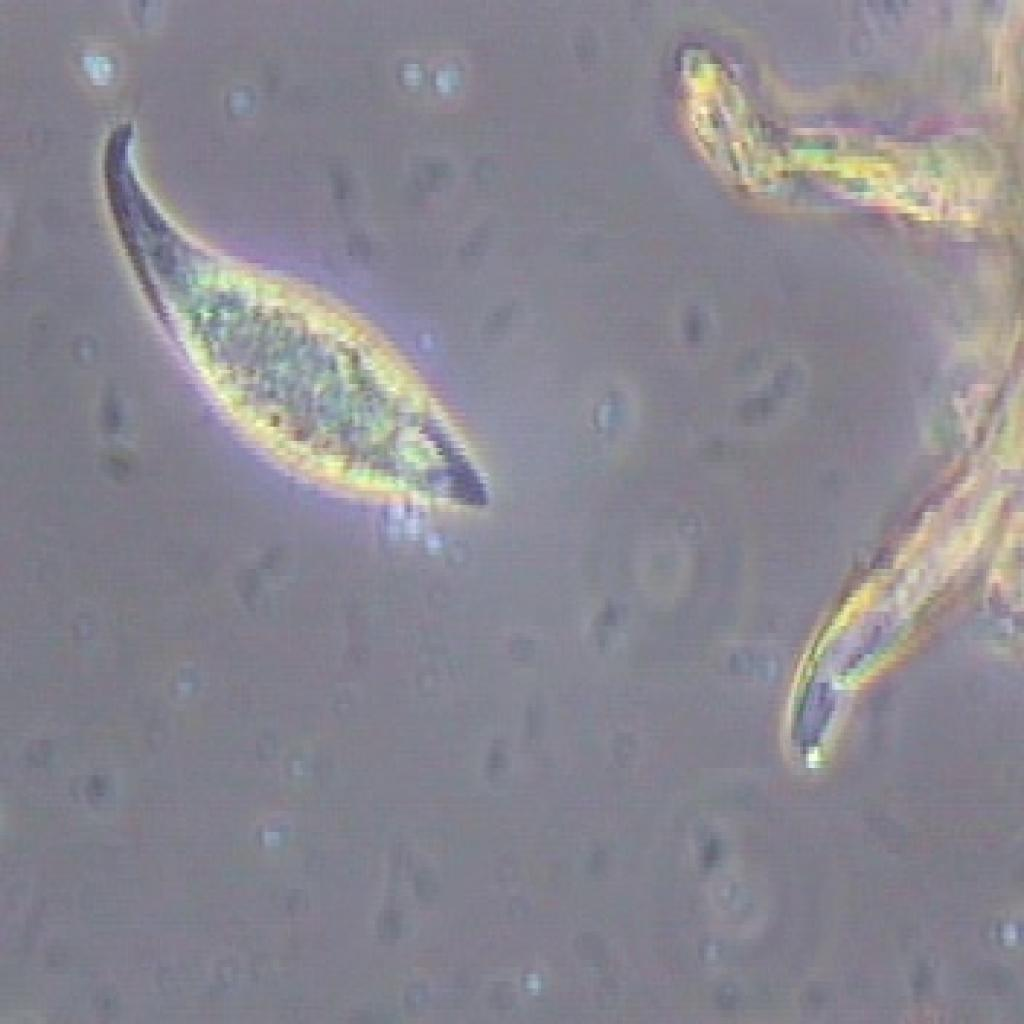Pristina: (76, 100, 506, 598)
